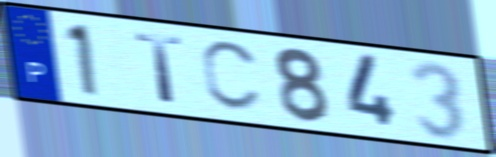1: (62, 21, 101, 99)
3: (409, 58, 470, 145)
4: (344, 50, 404, 135)
8: (272, 45, 333, 125)
C: (199, 39, 264, 115)
T: (132, 31, 188, 107)
